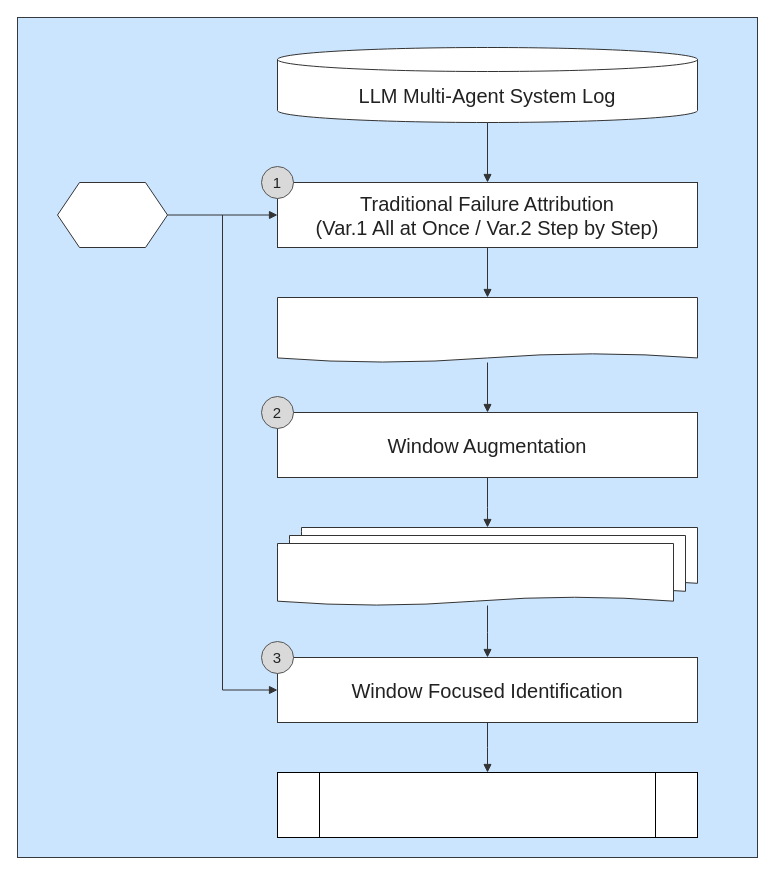
Some shapes in this 775 by 875 pixel diagram are drawn without their labels. Each missing label, with the centre of its shape:
"Augmented Potential Error Steps & Agents" belongs at (475,574).
"Decisive Error Step & Agent" belongs at (487,805).
"LLM" belongs at (112,215).
"Potential Error Step & Agent" belongs at (487,329).
